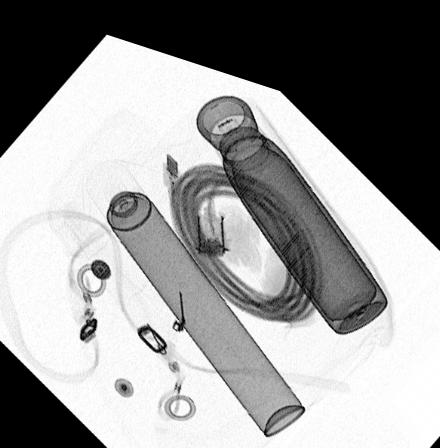Sprayer: (83, 150, 308, 422)
